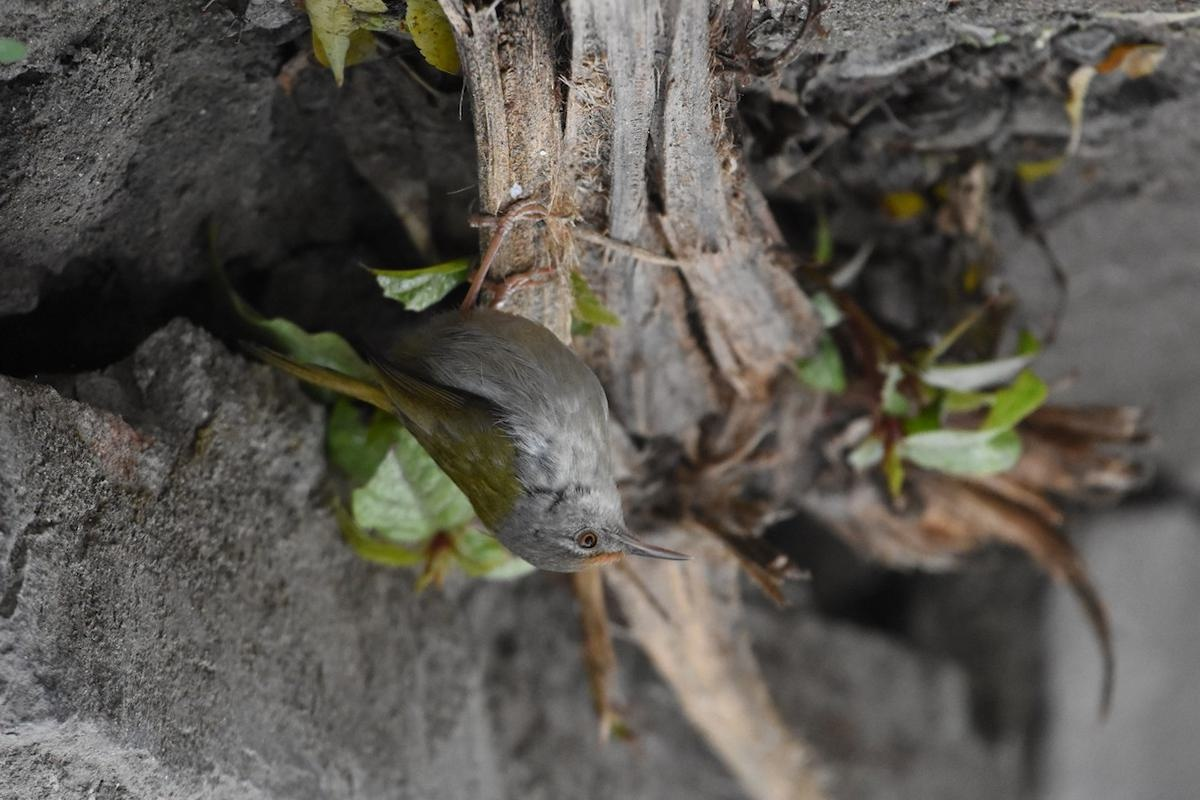tailorbird: (271, 255, 705, 588)
